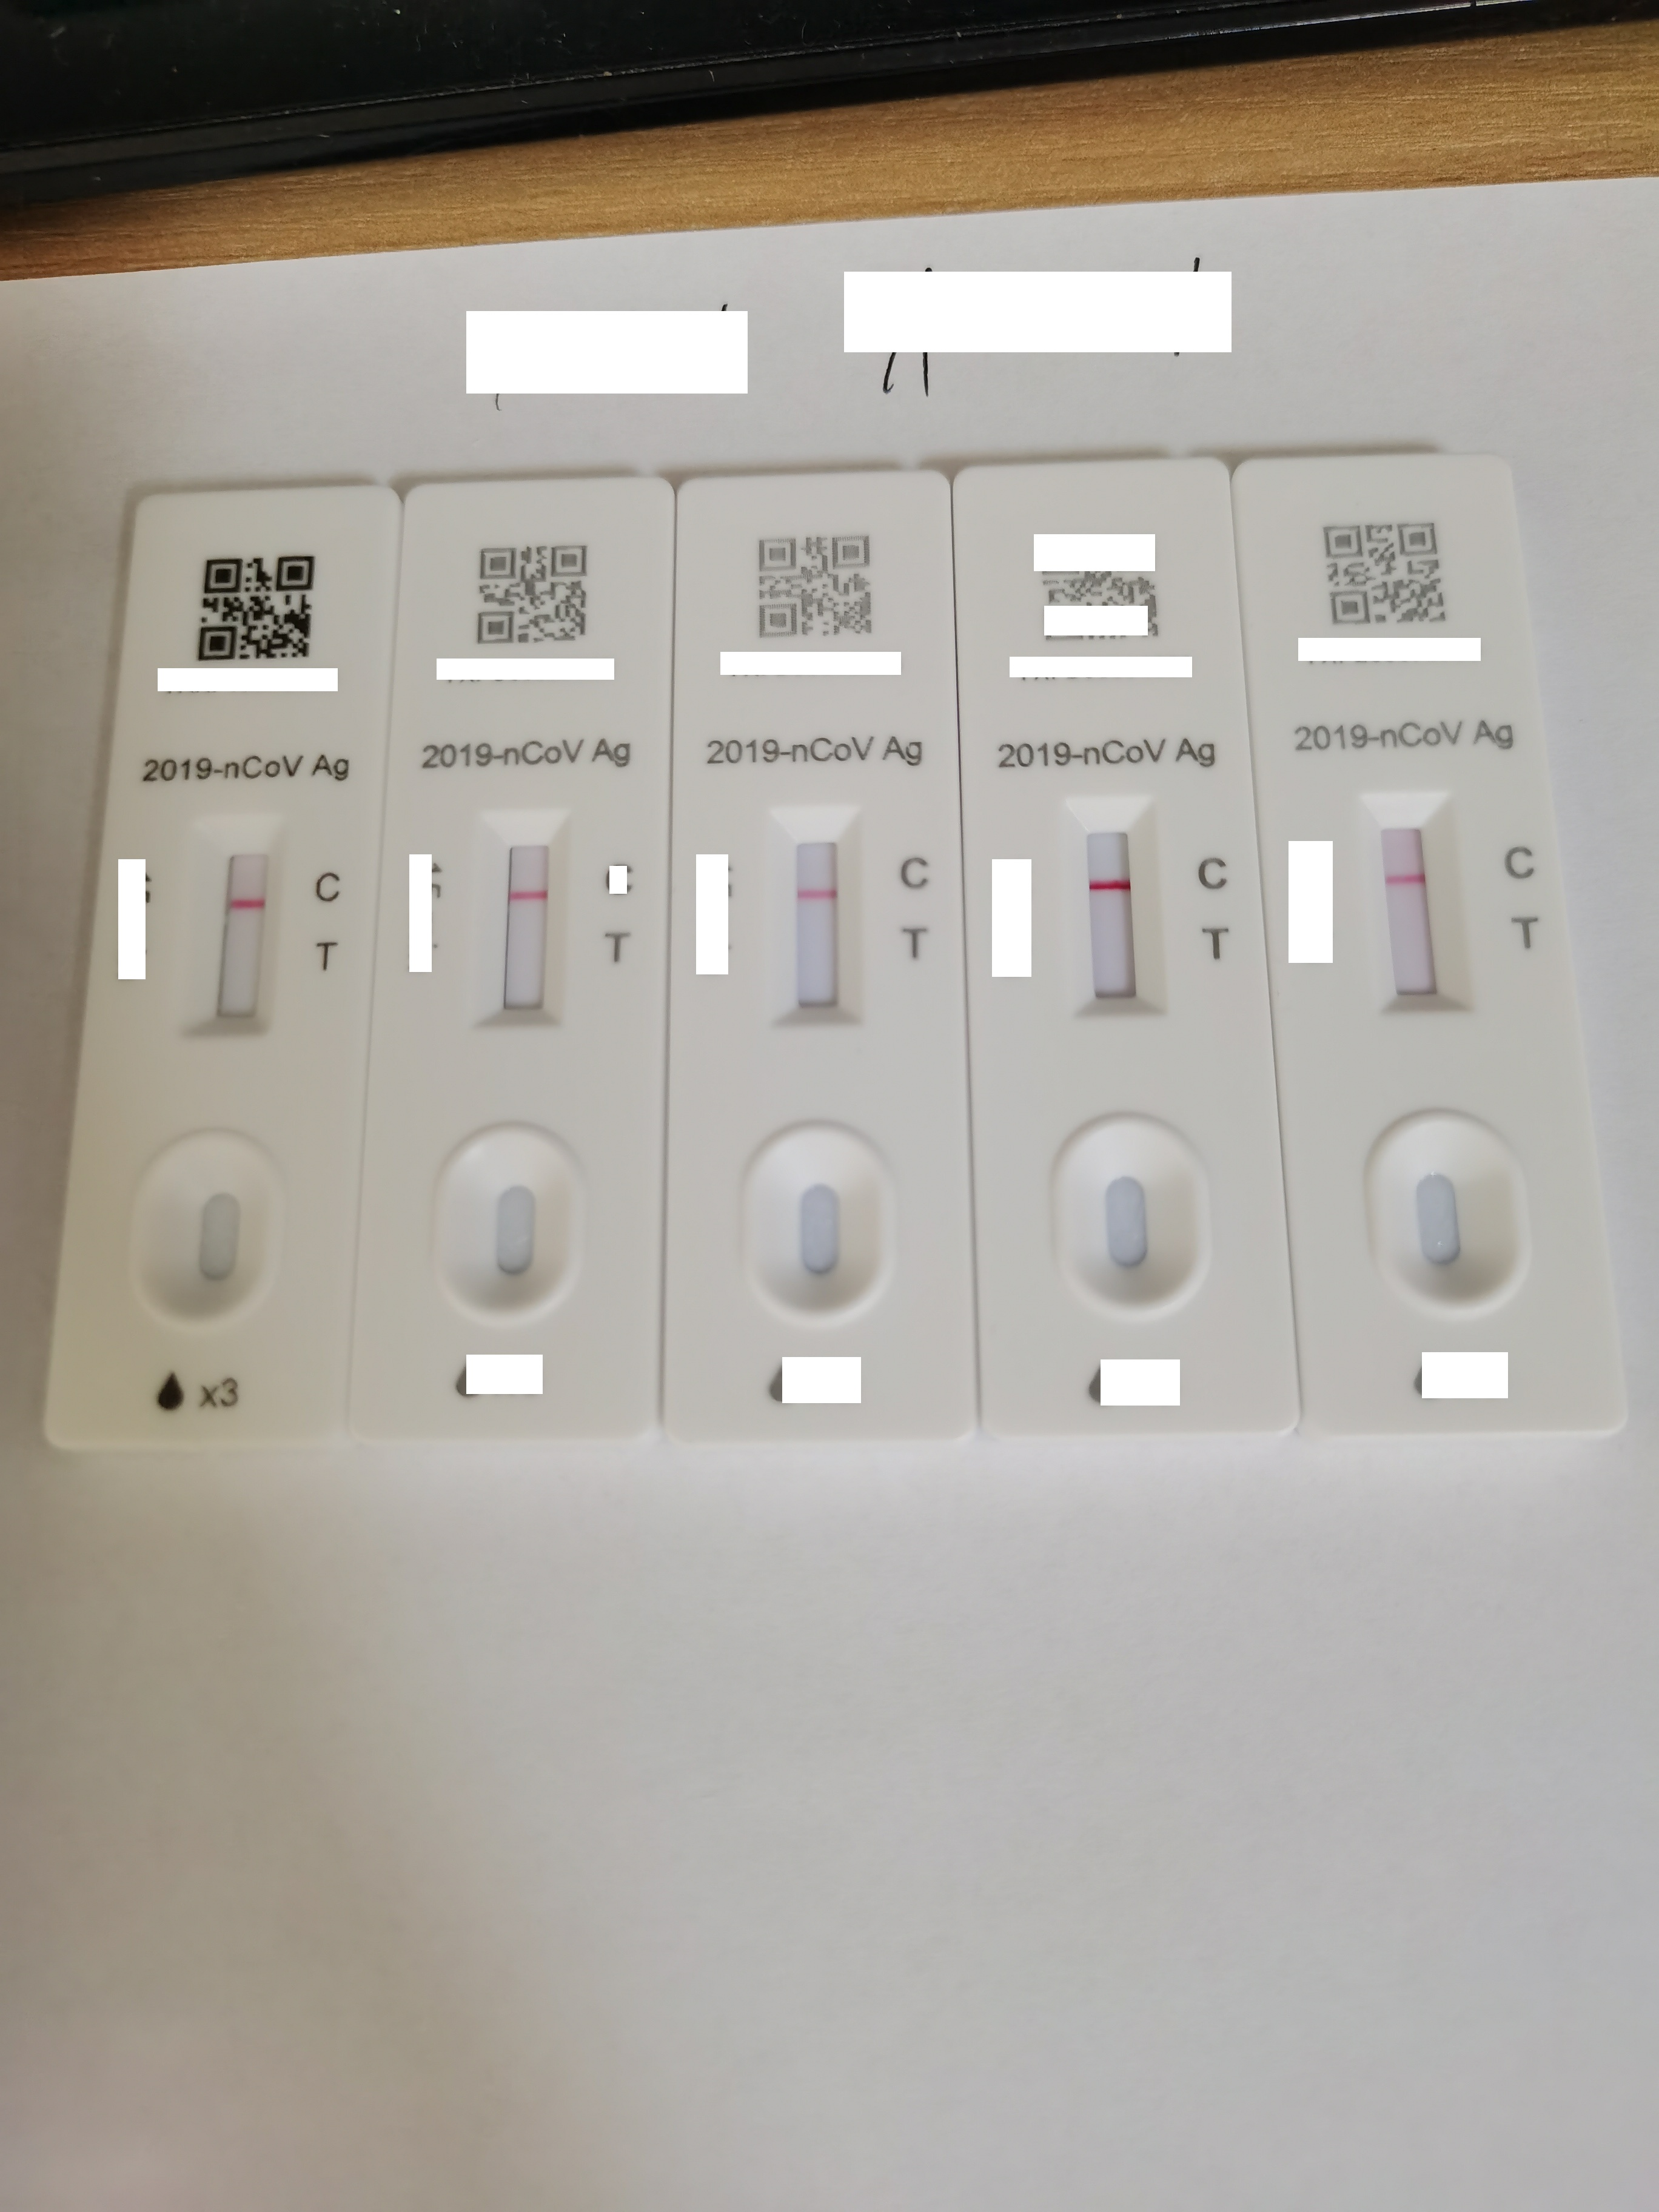negative: (183, 819, 289, 1036), (1364, 787, 1469, 1005), (1065, 796, 1161, 1017), (774, 799, 861, 1026), (477, 810, 568, 1026)
